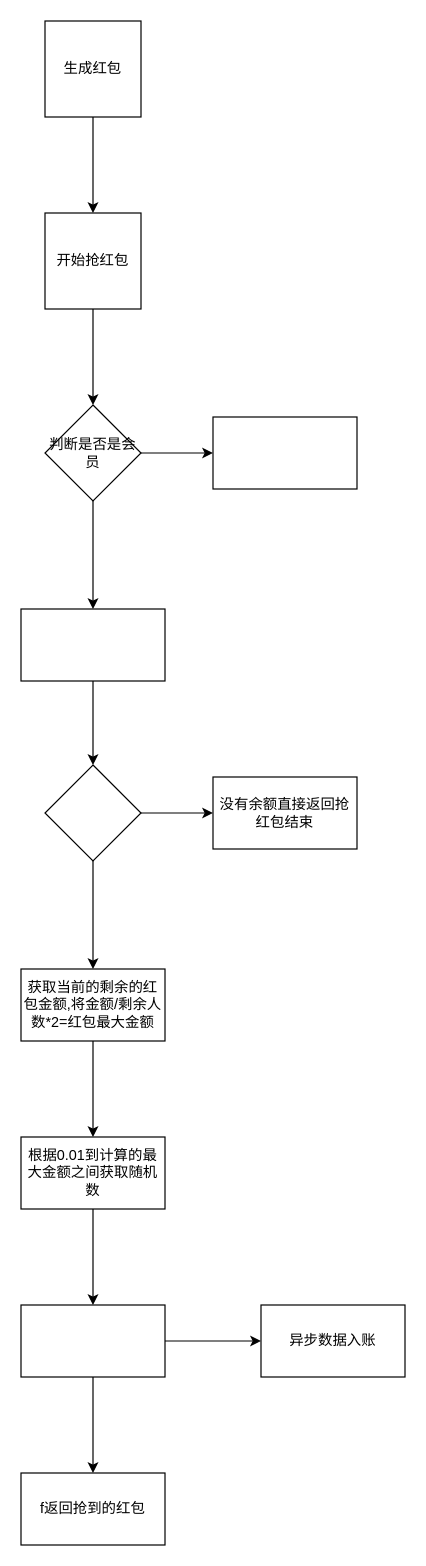
The diagram is 426 pixels wide and 1566 high, and some of its shapes have lost their labels. The box of each missing label's shape, as (x1, y1, x2, y2) in pixels:
主红包数量减一,金额减去所抢到的金额: (20, 1304, 165, 1377)
判断余额: (44, 764, 141, 861)
进入抽奖: (20, 608, 165, 681)
非会员直接返回没有抢红包的资格: (212, 416, 357, 489)
